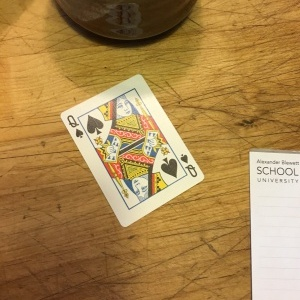card: (60, 72, 205, 228)
